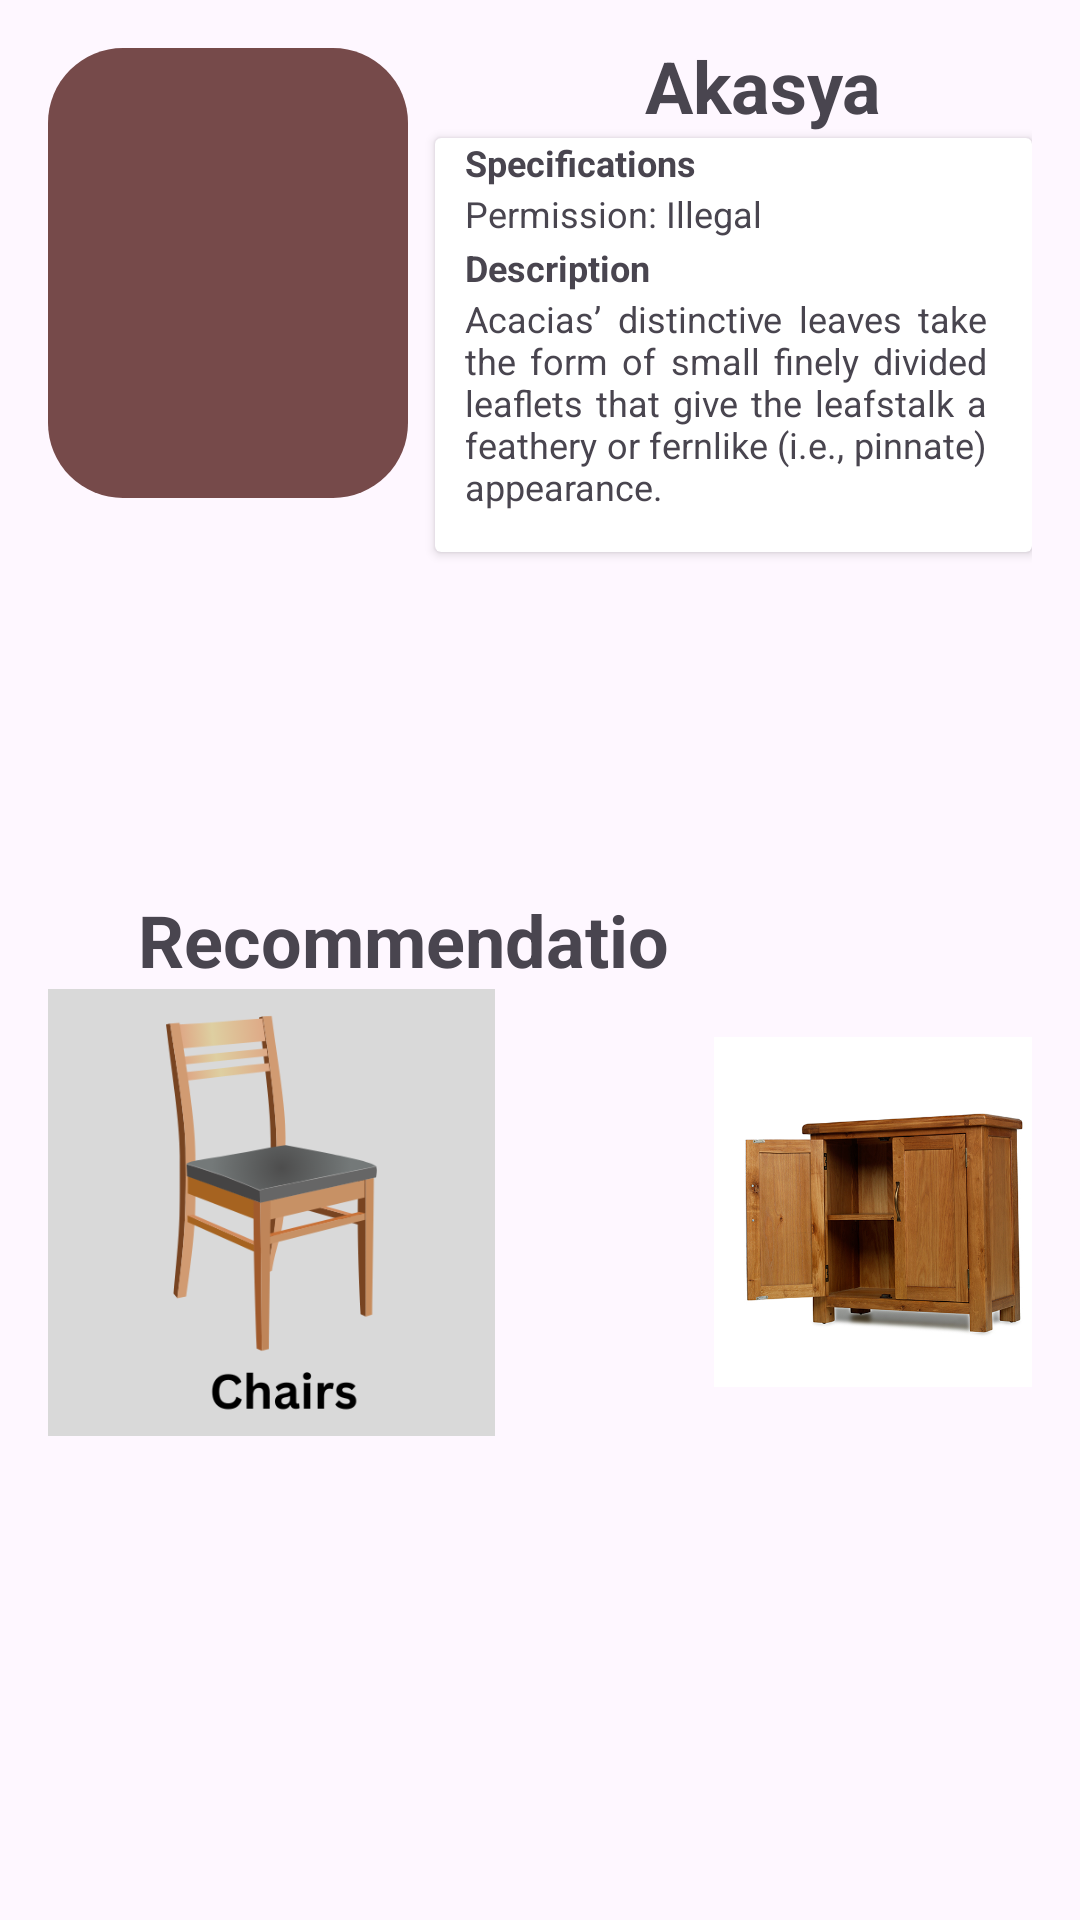

Where icons sit on this 1080*1920 app screen, as (x1, y1, x2, y2):
cabinet: (745, 1113, 1023, 1334)
